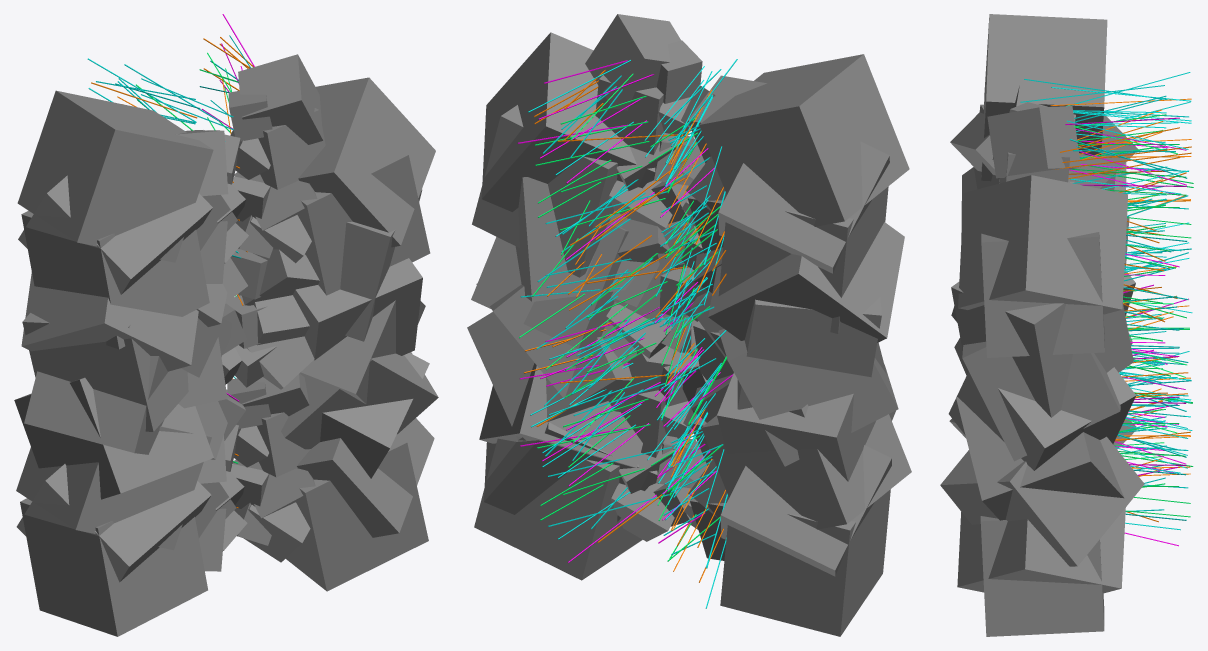
The model's file is hugewalls1.dae.
3 views of the same model, side by side, from view 1: azimuth 30°, elevation 25°; view 2: azimuth 150°, elevation 25°; view 3: azimuth 270°, elevation 25° (orthographic). The views are drawn at different scales.
Parts seen in each view (by area): view 1: Cube.762, Cube.542, Cube.740, Cube.521, Cube.760, Cube.545, Cube.548, Cube.547, Cube.544, Cube.546, Cube.522, Cube.739 (+41 smaller); view 2: Cube.762, Cube.740, Cube.542, Cube.521, Cube.548, Cube.544, Cube.546, Cube.739, Cube.547, Cube.545, Cube.543, Cube.761 (+38 smaller); view 3: Cube.740, Cube.762, Cube.523, Cube.521, Cube.522, Cube.524, Cube.527, Cube.739, Cube.526, Cube.525, Cube.728, Cube.761 (+3 smaller).
Boxes of the visible parts, left/top/right/bottom form: Cube.762: left=17, top=90, right=213, bottom=262; Cube.542: left=20, top=498, right=207, bottom=636; Cube.740: left=298, top=77, right=435, bottom=247; Cube.521: left=285, top=434, right=428, bottom=591; Cube.760: left=21, top=211, right=209, bottom=349; Cube.545: left=14, top=377, right=213, bottom=499; Cube.548: left=21, top=272, right=198, bottom=371; Cube.547: left=22, top=313, right=188, bottom=431; Cube.544: left=16, top=426, right=211, bottom=549; Cube.546: left=24, top=356, right=167, bottom=454; Cube.522: left=297, top=418, right=434, bottom=537; Cube.739: left=297, top=143, right=430, bottom=295; Cube.762: left=699, top=54, right=909, bottom=226; Cube.740: left=481, top=32, right=655, bottom=211; Cube.542: left=720, top=489, right=890, bottom=636; Cube.521: left=474, top=438, right=642, bottom=580; Cube.548: left=708, top=222, right=904, bottom=342; Cube.544: left=701, top=404, right=911, bottom=529; Cube.546: left=718, top=329, right=898, bottom=466; Cube.739: left=472, top=105, right=617, bottom=277; Cube.547: left=737, top=297, right=881, bottom=409; Cube.545: left=717, top=342, right=895, bottom=481; Cube.543: left=720, top=445, right=891, bottom=576; Cube.761: left=718, top=141, right=889, bottom=273; Cube.740: left=958, top=175, right=1128, bottom=314; Cube.762: left=981, top=14, right=1107, bottom=181; Cube.523: left=940, top=436, right=1144, bottom=566; Cube.521: left=980, top=516, right=1104, bottom=636; Cube.522: left=957, top=507, right=1125, bottom=593; Cube.524: left=956, top=397, right=1124, bottom=520; Cube.527: left=951, top=282, right=1133, bottom=417; Cube.739: left=981, top=232, right=1104, bottom=357; Cube.526: left=962, top=341, right=1120, bottom=461; Cube.525: left=948, top=367, right=1136, bottom=470; Cube.728: left=987, top=106, right=1080, bottom=178; Cube.761: left=950, top=112, right=1137, bottom=188.
Size of the model in its own units: 359 by 201 by 442.
